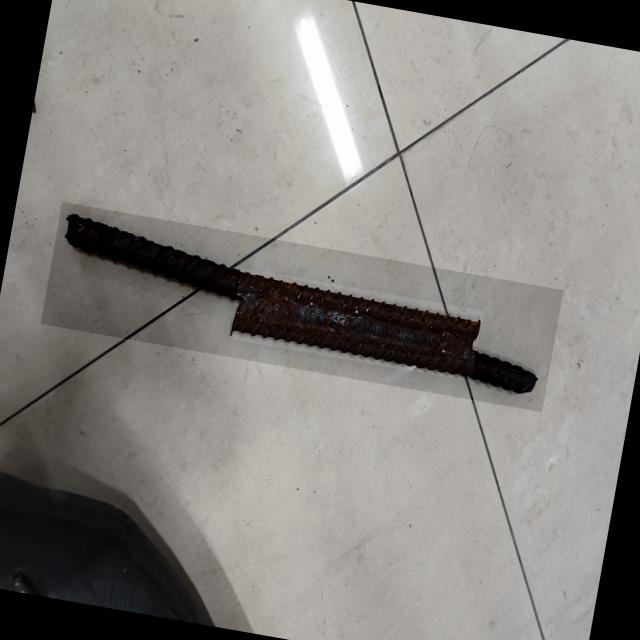Welded link: (228, 268, 483, 382)
ribbed bar: (40, 202, 563, 412)
